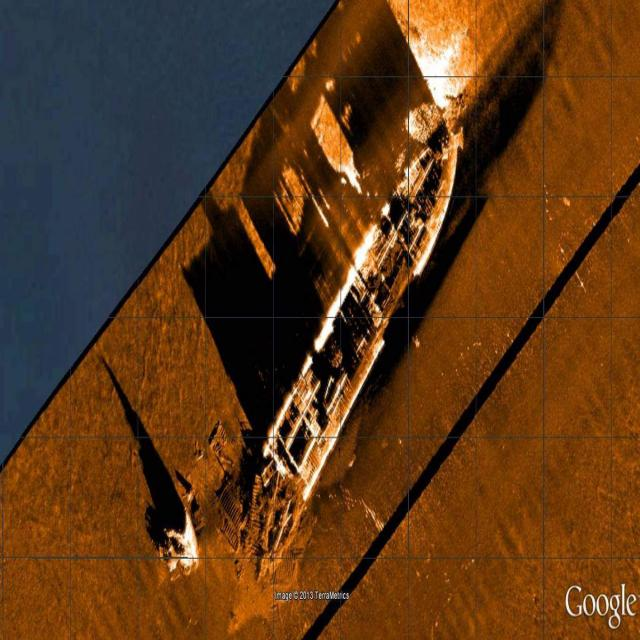ship: (257, 111, 465, 545)
